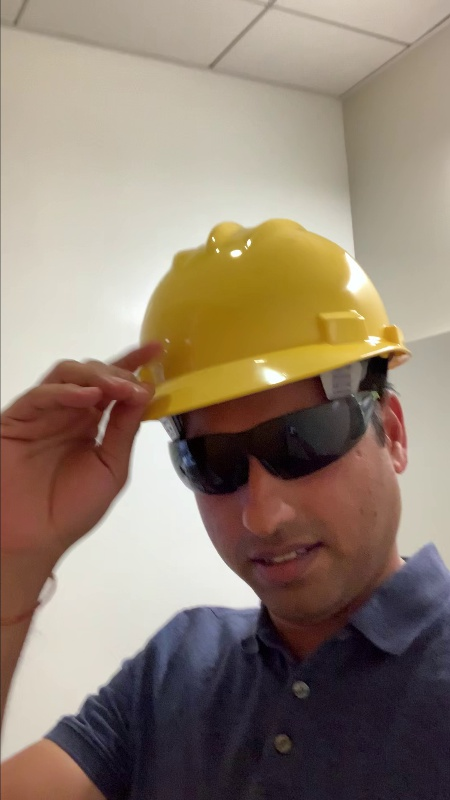glasses: (148, 388, 380, 497)
helmet: (89, 211, 413, 389)
